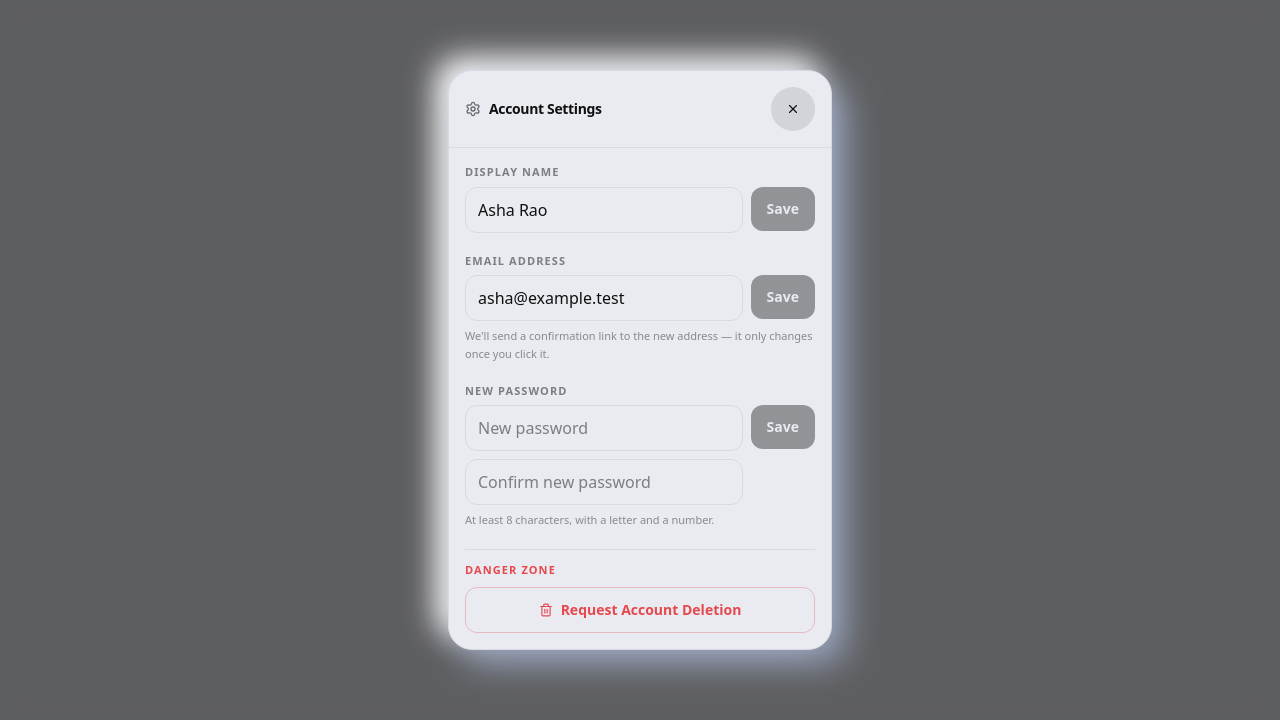
AccountSettingsModal — account deletion › confirms the request after the link is clicked
Click the link "Request Account Deletion": (640, 610) [465,587,815,633]
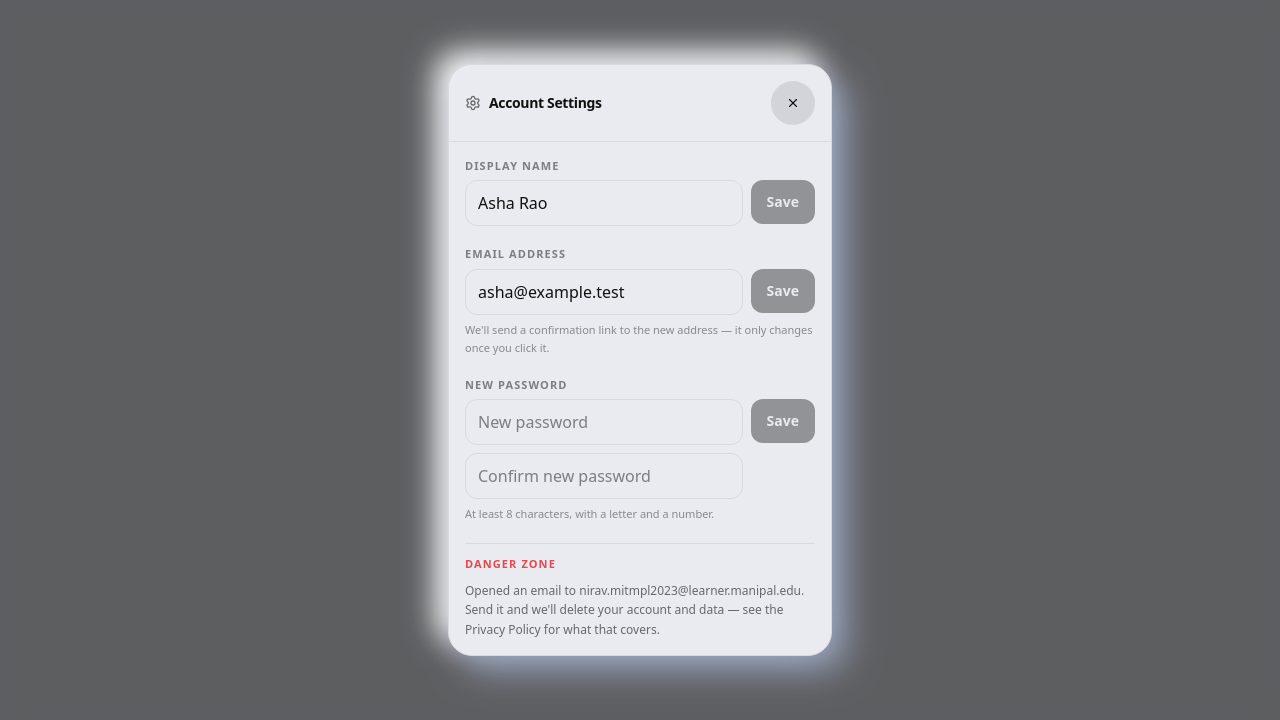
Check: the text "Opened an email to" is shown, box [465,582,579,599]
